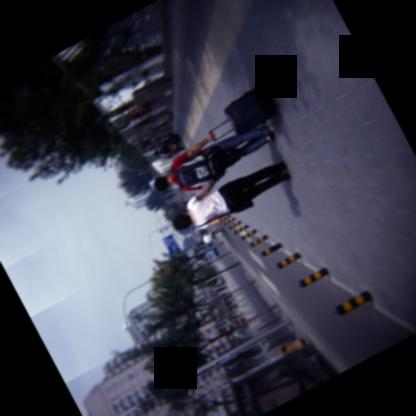backpack: (170, 142, 227, 190)
handbag: (197, 196, 254, 227)
suitcase: (209, 85, 279, 140)
